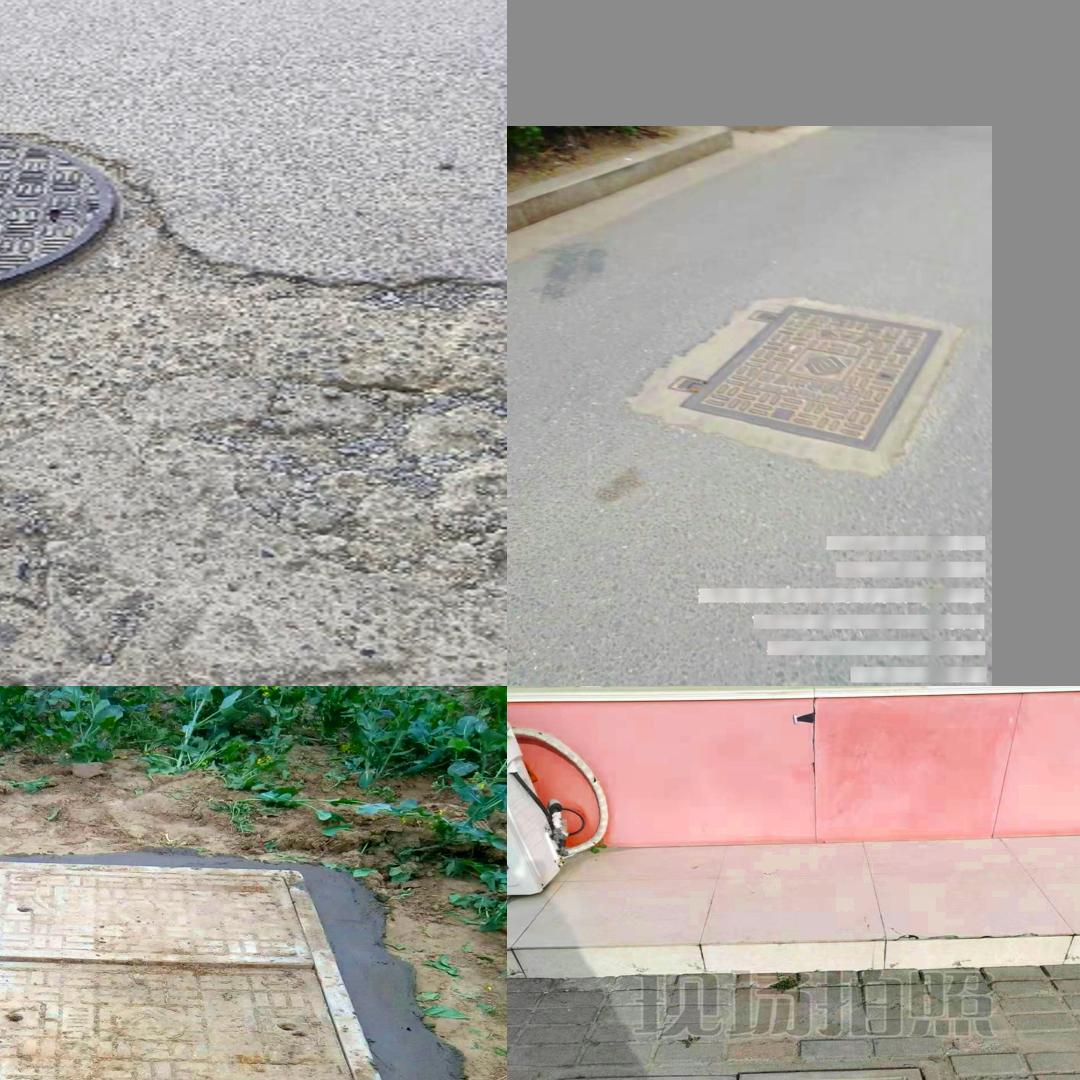good: (0, 866, 396, 1080), (643, 298, 947, 445), (0, 131, 138, 305), (507, 1060, 1005, 1080)
